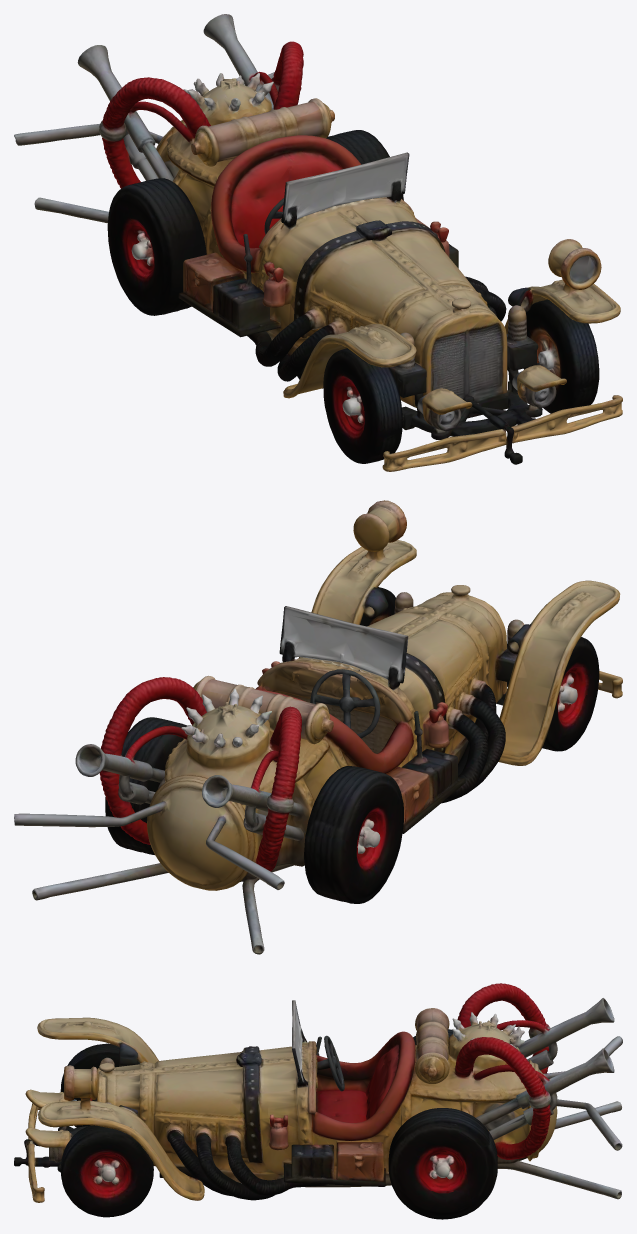
File: il-tempo-gigante.glb
3 views of the same model, one above another, from view 1: azimuth 30°, elevation 25°; view 2: azimuth 150°, elevation 25°; view 3: azimuth 270°, elevation 25° (orthographic). The views are drawn at different scales.
Visible parts, largest first — view 1: tripo_node_7fbde476-b846-4493-9884-e63ce89f1b38; view 2: tripo_node_7fbde476-b846-4493-9884-e63ce89f1b38; view 3: tripo_node_7fbde476-b846-4493-9884-e63ce89f1b38.
Part boxes in pixels (left/top/right/bottom): tripo_node_7fbde476-b846-4493-9884-e63ce89f1b38: left=14, top=14, right=622, bottom=471; tripo_node_7fbde476-b846-4493-9884-e63ce89f1b38: left=14, top=500, right=622, bottom=954; tripo_node_7fbde476-b846-4493-9884-e63ce89f1b38: left=14, top=983, right=622, bottom=1219.
Size of the model in its own units: 2.45 by 1.73 by 5.86.
Materials: 1 (1 with a texture image).
